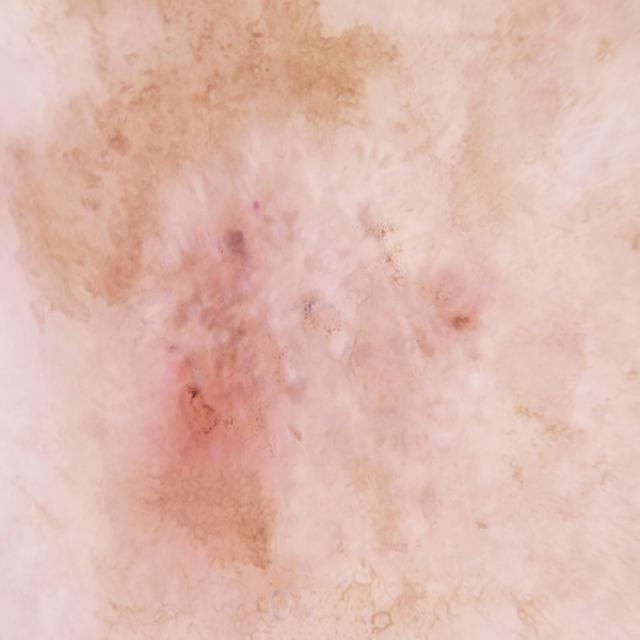Skin-Cancer Basal cell carcinoma: (2, 7, 636, 594)
